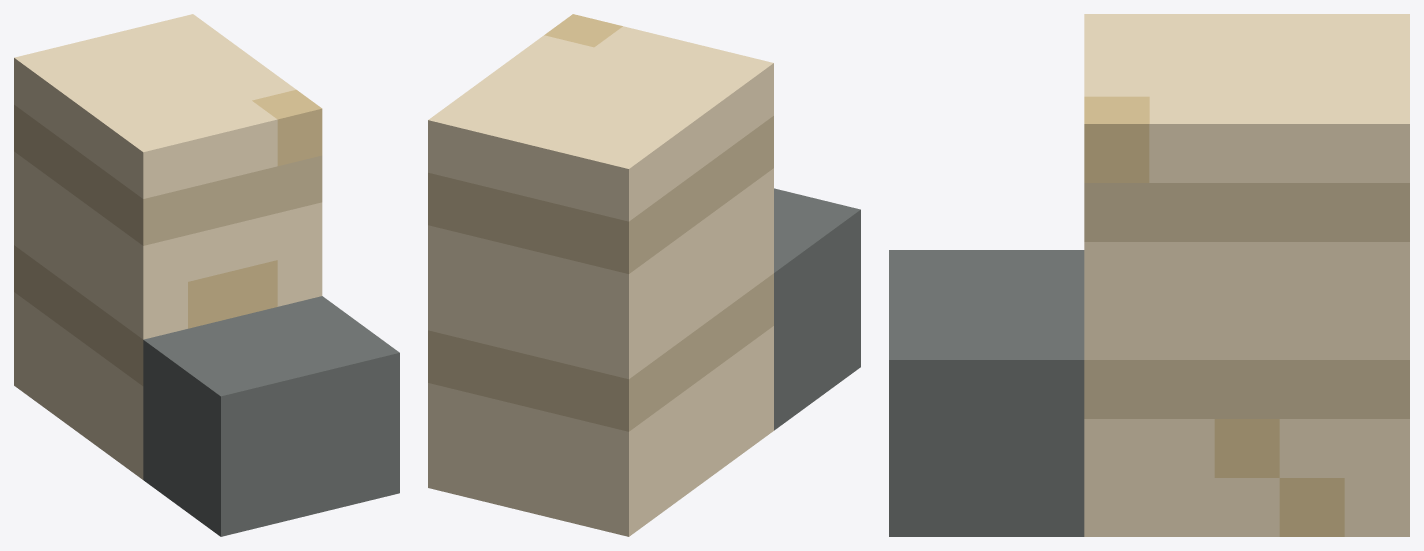
File: Mummy-3.obj
3 renders of one model, left to right at view 1: azimuth 30°, elevation 25°; view 2: azimuth 150°, elevation 25°; view 3: azimuth 270°, elevation 25°, orthographic. The views are drawn at different scales.
Bounding box in the file's own units: 0.4 × 0.7 × 0.8.
1 material, 1 textured.
